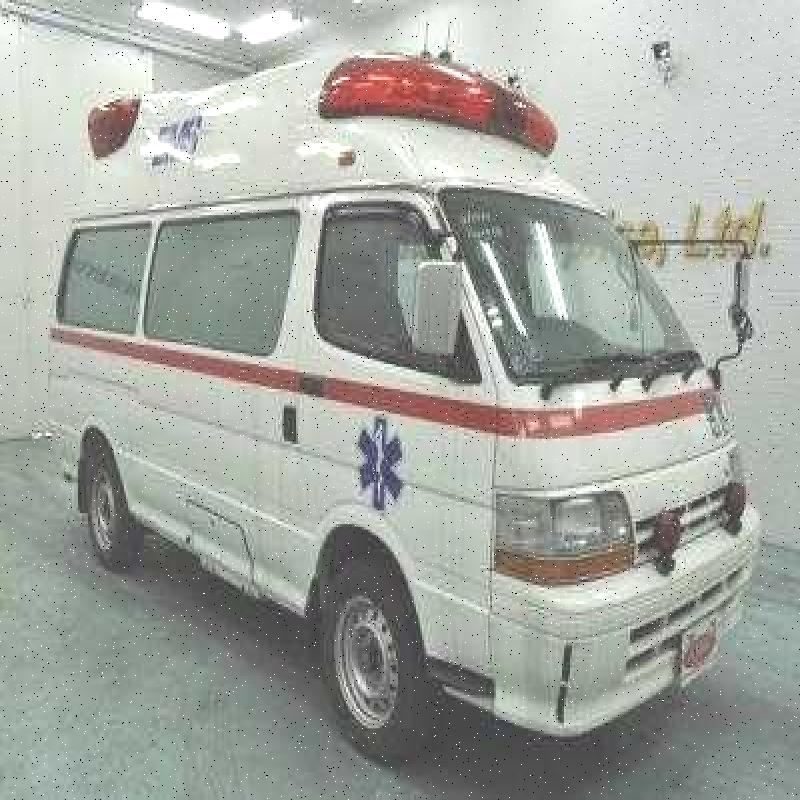AmbulanceSiren: (320, 46, 578, 170)
